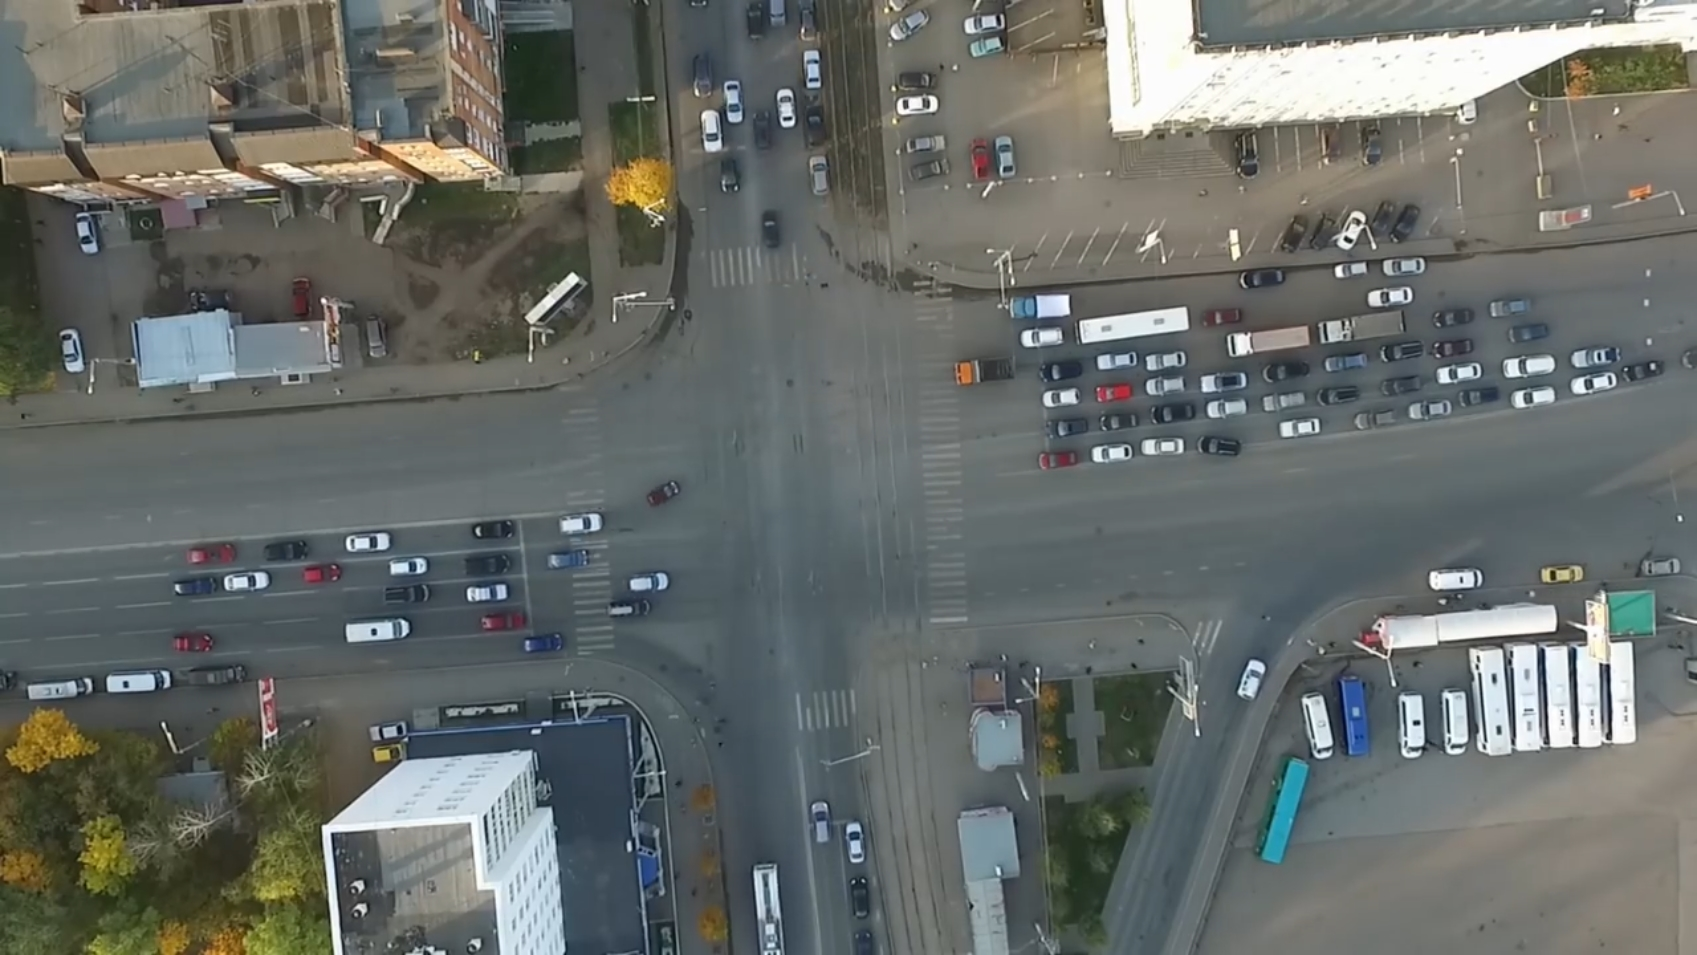car: (1467, 644, 1514, 757), (1068, 306, 1197, 342), (1504, 640, 1544, 752), (1536, 642, 1575, 747), (1599, 645, 1639, 745), (751, 861, 789, 955), (1317, 311, 1411, 345), (1571, 641, 1601, 745), (1339, 674, 1373, 759), (1225, 326, 1311, 357), (1395, 689, 1431, 761), (1296, 694, 1338, 756), (103, 666, 176, 694), (1005, 292, 1075, 319), (1441, 686, 1469, 754), (351, 617, 422, 644), (883, 9, 936, 45), (953, 354, 1018, 384), (183, 535, 239, 567), (1425, 566, 1485, 594), (1500, 351, 1558, 379), (184, 662, 245, 689), (1233, 131, 1266, 180), (24, 679, 100, 700), (1235, 660, 1270, 704), (697, 106, 728, 155), (1319, 125, 1349, 174), (259, 538, 311, 564), (1379, 252, 1429, 280), (383, 580, 434, 608), (1013, 325, 1066, 351), (1508, 384, 1559, 410), (1569, 344, 1622, 370), (1570, 370, 1621, 396), (362, 315, 392, 361), (344, 529, 395, 555), (1538, 560, 1590, 585), (56, 330, 86, 373), (1360, 125, 1389, 169), (1504, 318, 1551, 345), (1335, 208, 1365, 250), (690, 50, 718, 96), (1260, 389, 1311, 414), (554, 510, 603, 535), (800, 103, 828, 147), (756, 168, 783, 213), (73, 212, 101, 255), (1323, 351, 1372, 375), (962, 10, 1011, 35), (1235, 266, 1287, 289), (1038, 357, 1085, 382), (1274, 415, 1325, 438), (471, 517, 517, 542), (746, 69, 772, 115), (1199, 431, 1244, 458), (1281, 212, 1309, 254), (1090, 442, 1138, 466), (1407, 395, 1455, 420), (1149, 401, 1199, 424), (772, 57, 797, 103), (1393, 201, 1420, 244), (385, 554, 431, 578), (721, 87, 745, 136), (1435, 361, 1485, 384), (364, 719, 414, 742), (1364, 286, 1414, 308), (969, 136, 994, 180), (1093, 349, 1140, 372), (174, 573, 220, 596), (224, 570, 270, 594), (895, 69, 939, 93), (1034, 449, 1085, 470), (1090, 380, 1135, 403), (1200, 304, 1248, 326), (1140, 435, 1188, 457), (966, 35, 1009, 59), (1197, 374, 1256, 392), (895, 93, 944, 114), (479, 610, 524, 632), (808, 153, 830, 198), (1368, 197, 1392, 240), (1432, 335, 1476, 358), (547, 547, 590, 570), (628, 570, 671, 594), (1378, 340, 1425, 361), (1378, 375, 1425, 396), (1490, 296, 1530, 321), (648, 478, 679, 510), (465, 553, 509, 575), (1263, 360, 1310, 381), (1353, 408, 1400, 429), (464, 583, 510, 604), (810, 796, 831, 843), (801, 51, 825, 91), (1043, 385, 1080, 410), (851, 876, 873, 919), (171, 631, 214, 653), (1140, 375, 1188, 395), (303, 562, 341, 587), (293, 275, 314, 319), (1431, 308, 1476, 329), (1097, 412, 1143, 431), (1204, 399, 1251, 419), (1456, 387, 1502, 407), (1619, 360, 1666, 380), (1639, 556, 1682, 577), (1314, 210, 1336, 251), (909, 159, 955, 178), (1044, 417, 1090, 437), (997, 135, 1018, 177), (1318, 384, 1360, 405), (369, 744, 411, 765), (1145, 350, 1189, 370), (902, 134, 948, 153), (604, 599, 650, 617), (524, 633, 565, 653), (721, 155, 741, 195), (1330, 260, 1369, 279), (797, 7, 816, 45), (846, 822, 862, 862), (853, 929, 876, 955), (1458, 99, 1478, 125), (710, 1, 730, 19)
